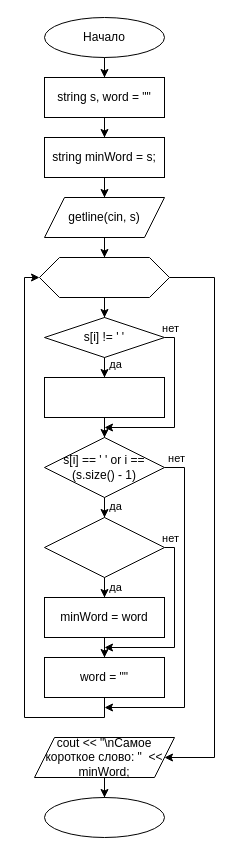
Image size: 240x855. Some labels were removed from this diagram. The shapes that lost their labels are listed below. From the top down, each one's box as (x1, y1, x2, y2) in pixels, then its label:
(38, 256, 170, 298): int i = 0; i < s.size(); i++
(44, 376, 164, 418): word += s[i]
(44, 516, 164, 578): 0 < word.size() && word.size() < minWord.size()
(44, 796, 164, 838): Конец
